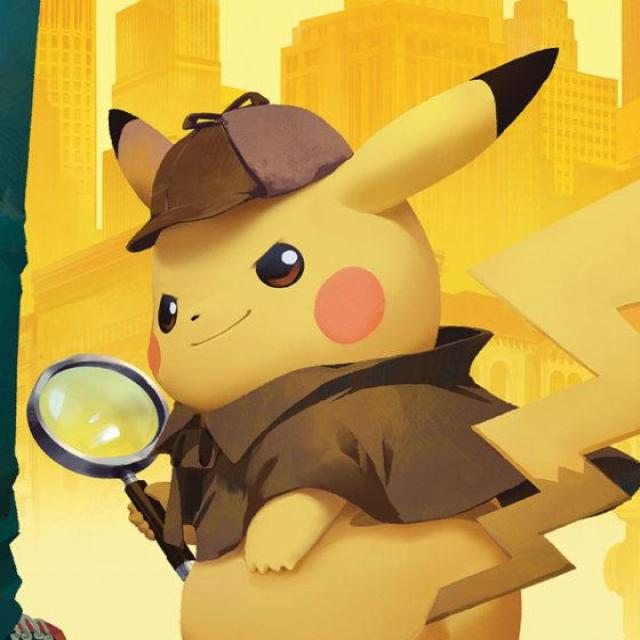pikachu: (97, 37, 640, 640)
